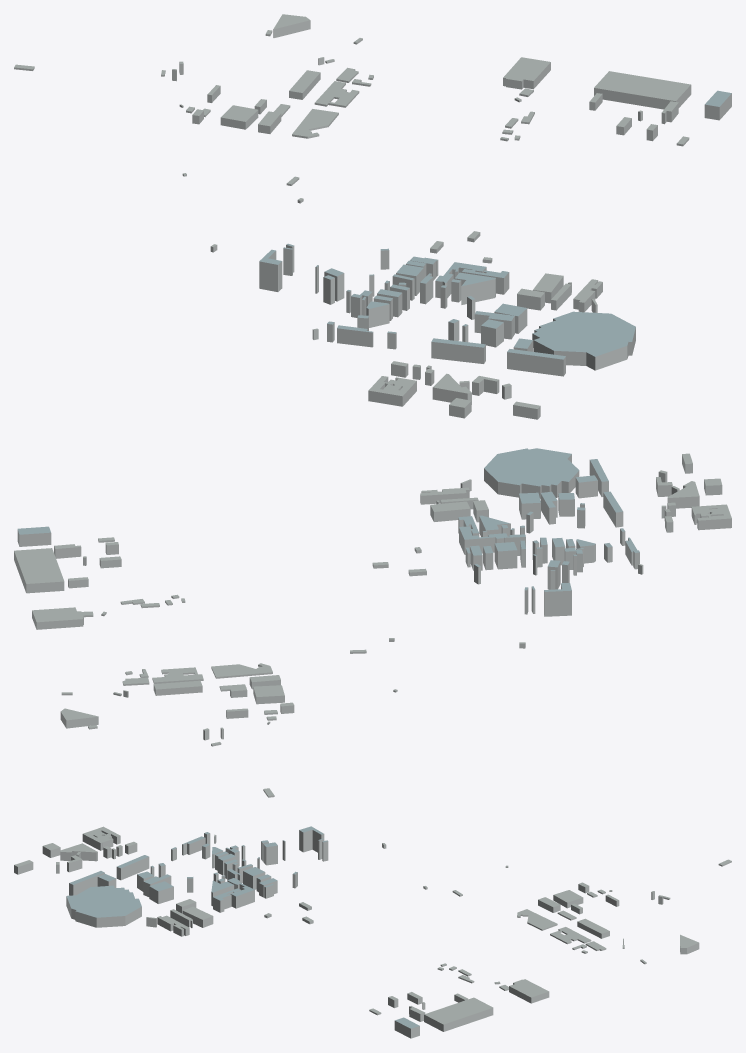
Rendered from far.glb.
The picture shows the model from 3 angles, top to bottom: view 1: azimuth 30°, elevation 25°; view 2: azimuth 150°, elevation 25°; view 3: azimuth 270°, elevation 25°; orthographic projection. The views are drawn at different scales.
Size of the model in its own units: 814 by 37 by 1209.
